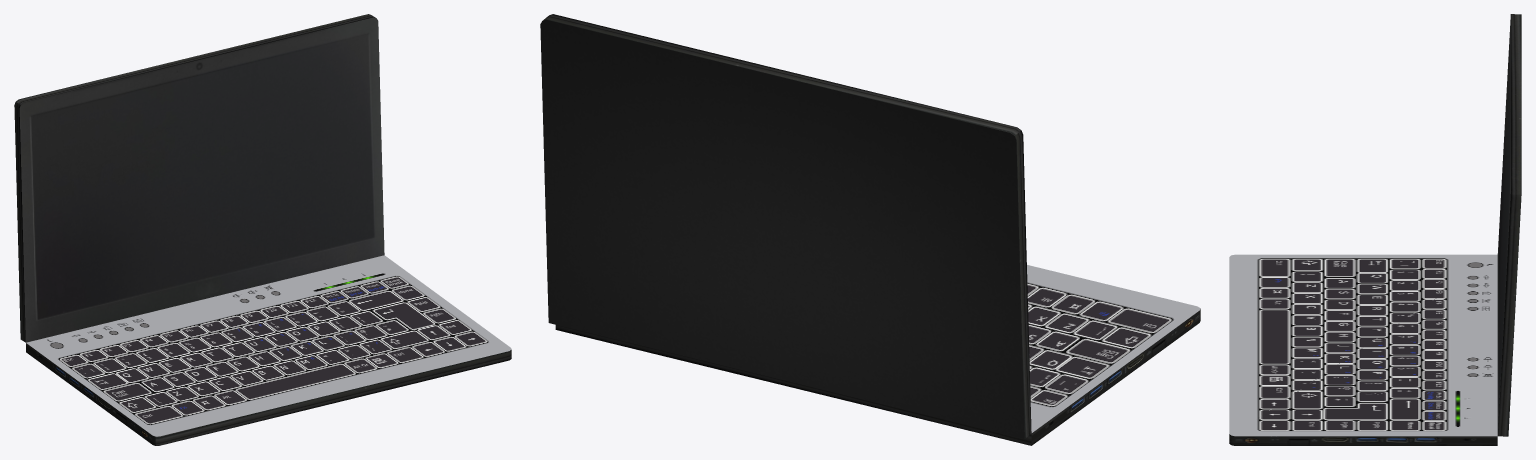
File: laptop1.FBX
3 renders of one model, left to right at view 1: azimuth 30°, elevation 25°; view 2: azimuth 150°, elevation 25°; view 3: azimuth 270°, elevation 25°, orthographic. The views are drawn at different scales.
Visible parts, largest first — view 1: laptop1; view 2: laptop1; view 3: laptop1.
Part boxes in pixels (x1=…): laptop1: x1=14, y1=14, x2=511, y2=445; laptop1: x1=540, y1=14, x2=1200, y2=445; laptop1: x1=1229, y1=14, x2=1521, y2=445.
Bounding box in the file's own units: 4 × 2.6 × 2.72.
